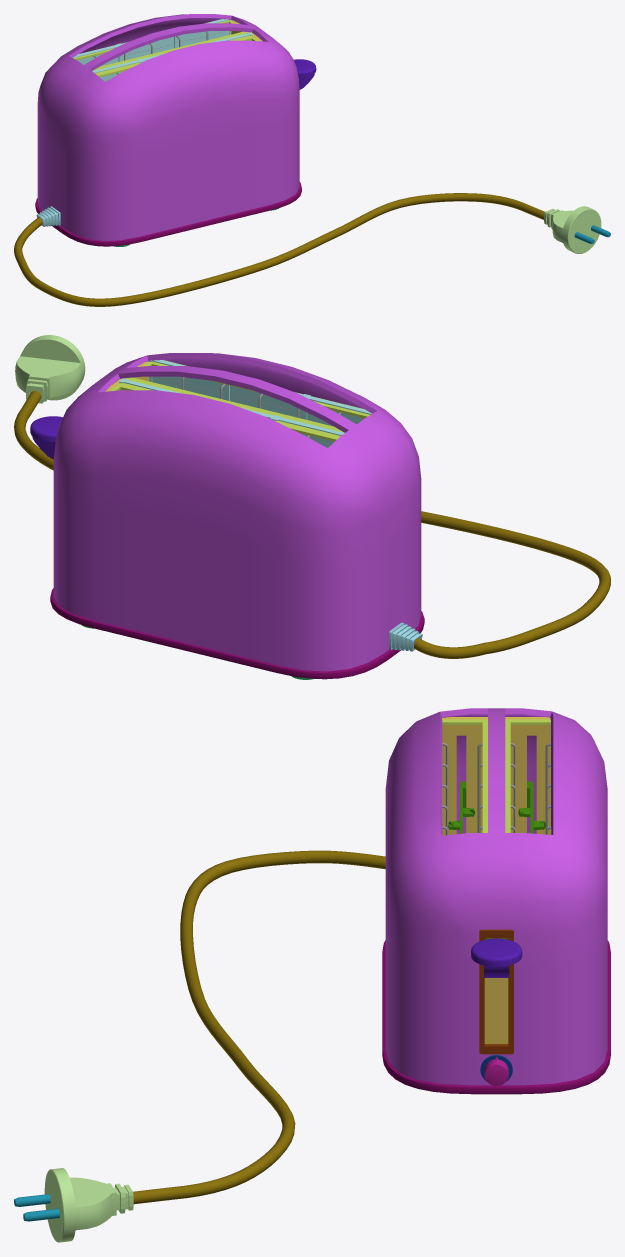
Rendered from toaster.obj.
3 renders of one model, top to bottom at view 1: azimuth 30°, elevation 25°; view 2: azimuth 150°, elevation 25°; view 3: azimuth 270°, elevation 25°, orthographic. The views are drawn at different scales.
Parts seen in each view (by area): view 1: shell, Line093, Cylinder014, bottom, Box004, Box006, Cylinder009, Box003; view 2: shell, Line093, Cylinder014, bottom, Box005, Box006, Cylinder009, Box003, Box012; view 3: shell, Line093, Box007, Cylinder014, bottom, Box006, Box010, Box008, Cylinder009, Box009.
Boxes of the visible parts, x1,y1,x2,y2 form: shell: (37,14,299,240); Line093: (14,193,544,306); Cylinder014: (544,206,601,253); bottom: (35,182,301,246); Box004: (72,19,231,66); Box006: (73,20,259,77); Cylinder009: (294,59,316,89); Box003: (92,32,252,81); shell: (53,353,421,671); Line093: (14,391,610,658); Cylinder014: (15,335,85,403); bottom: (50,588,424,679); Box005: (149,360,372,426); Box006: (109,360,370,441); Cylinder009: (30,416,62,459); Box003: (119,378,344,447); Box012: (389,622,422,651); shell: (385,708,607,1085); Line093: (133,850,385,1204); Box007: (442,717,551,835); Cylinder014: (44,1168,133,1242); bottom: (382,940,610,1094); Box006: (442,719,550,832); Box010: (479,929,513,1054); Box008: (484,978,508,1043); Cylinder009: (471,938,522,977); Box009: (448,781,545,939).
Size of the model in its own units: 173 by 62.27 by 118.
